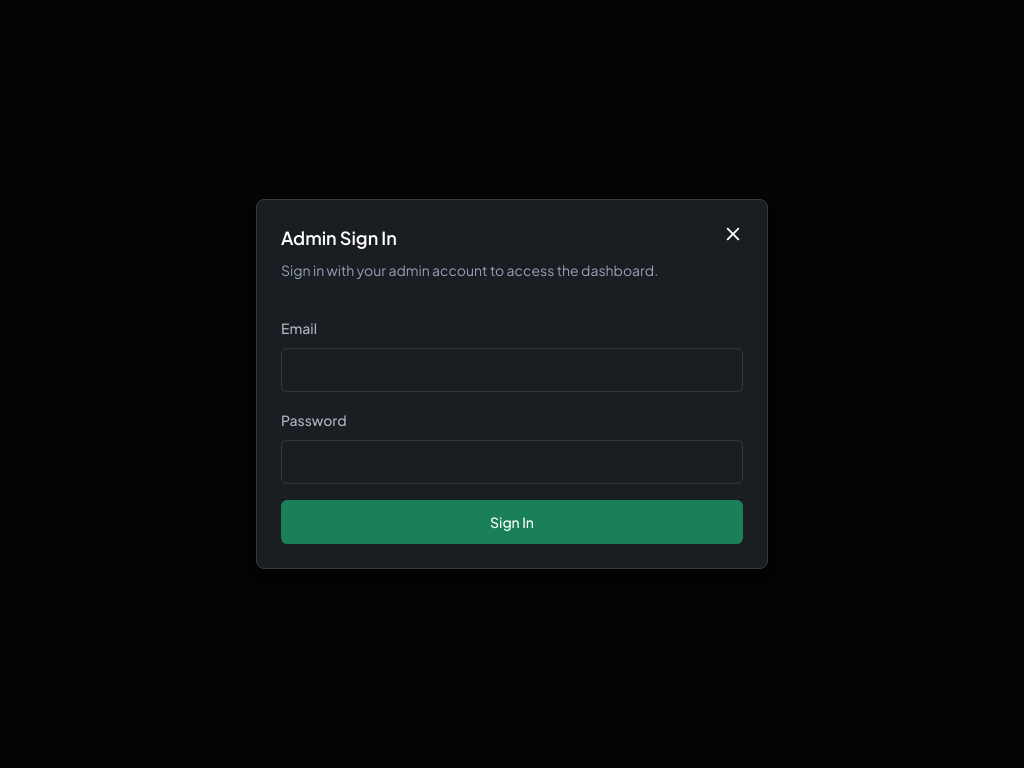
Test: AdminLoginModal › UI-03 shows the generic error from the server
The width and height of the screenshot is (1024, 768).
Type "admin@example.com" into the field labelled "Email" at (512, 370), box [281,348,743,392]
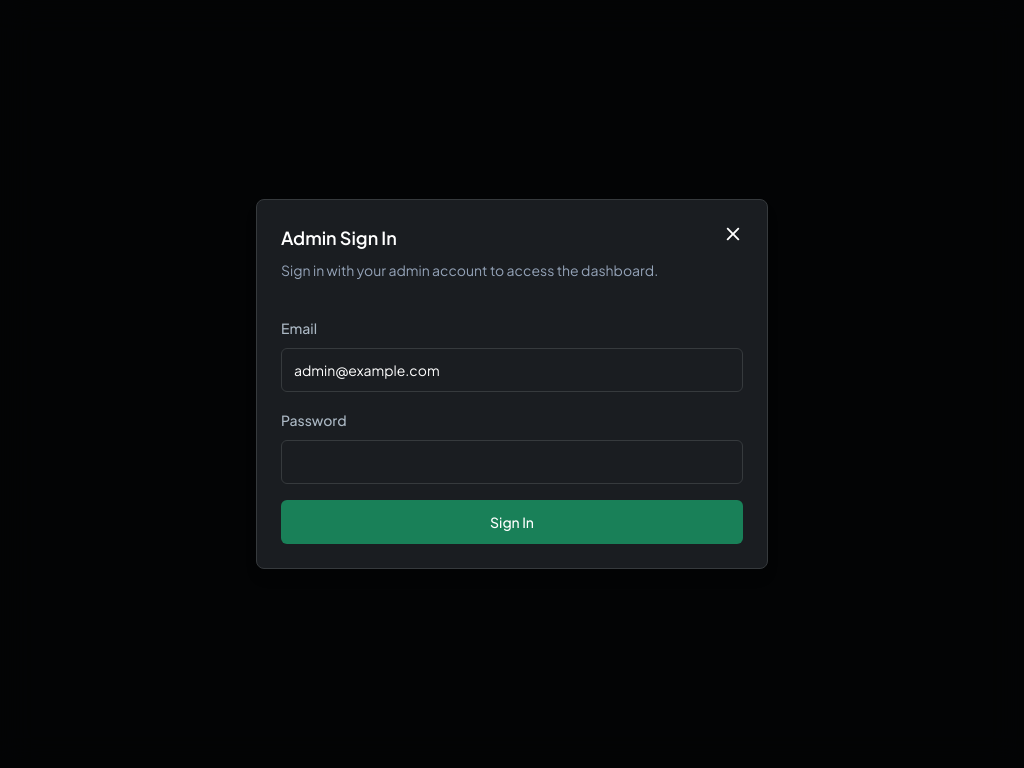
Type "secret" into the password field labelled "Password" at (512, 462), box [281,440,743,484]
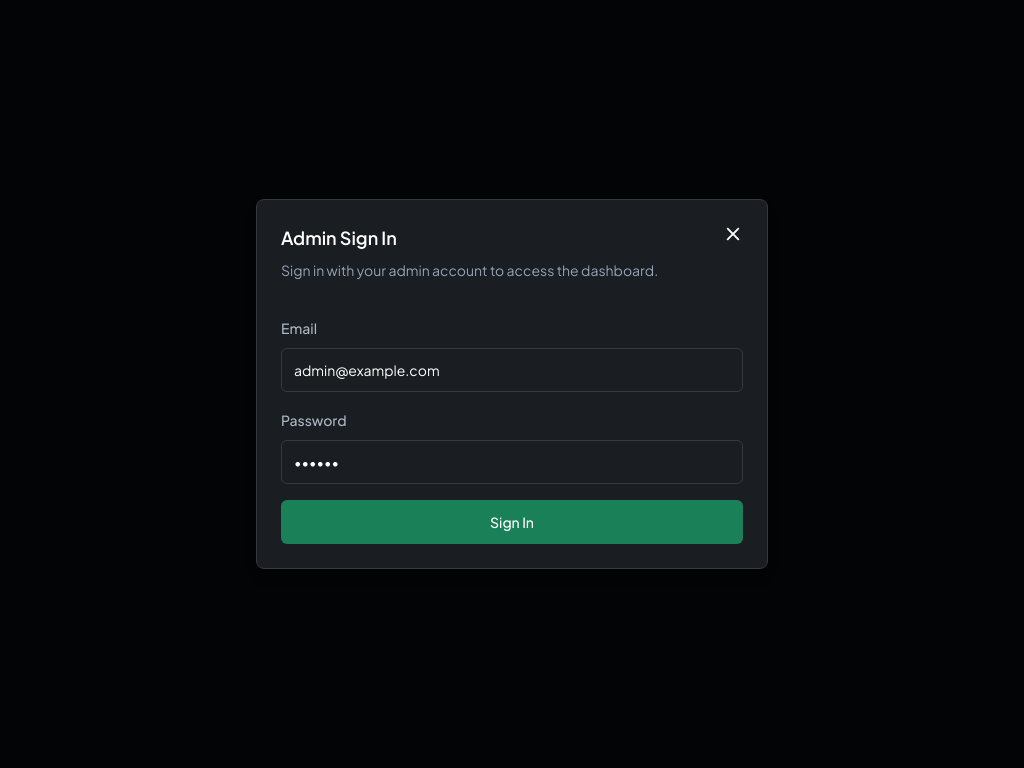
Click the button "Sign In" at (512, 522), box [281,500,743,544]
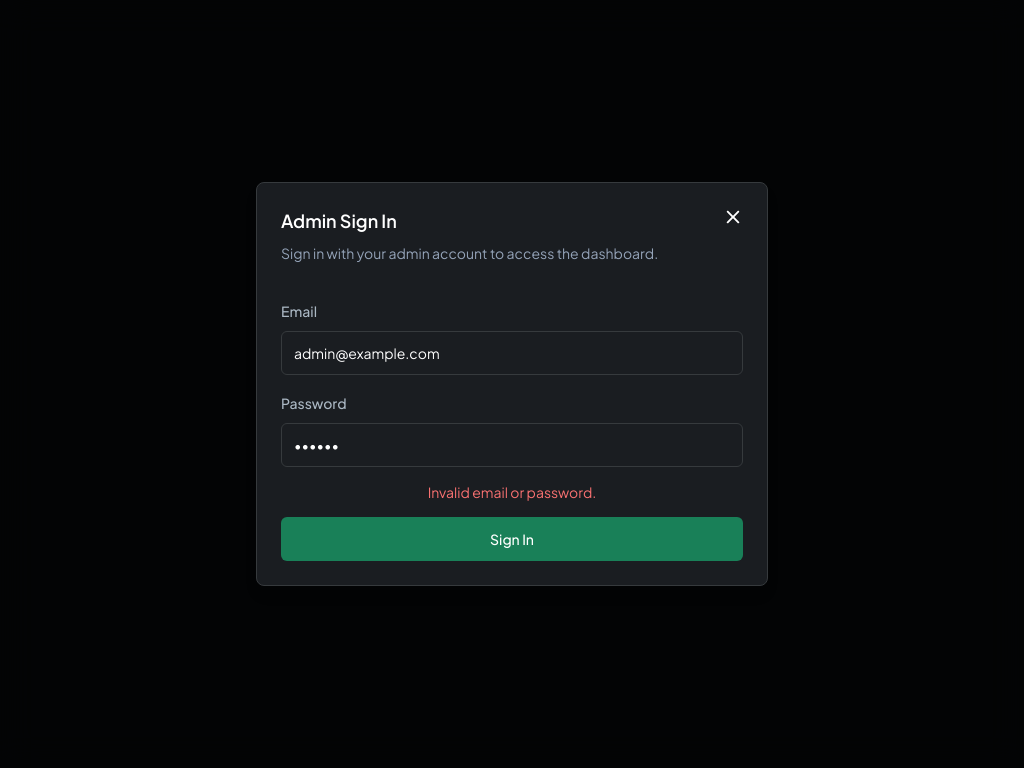
Now the text "Invalid email or password." is shown, box [428,483,596,501]
